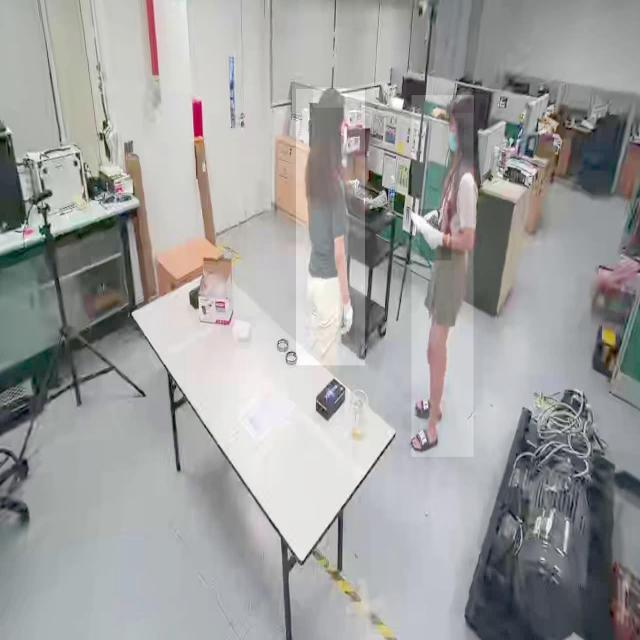gloves: (419, 208, 452, 260), (338, 295, 356, 345)
